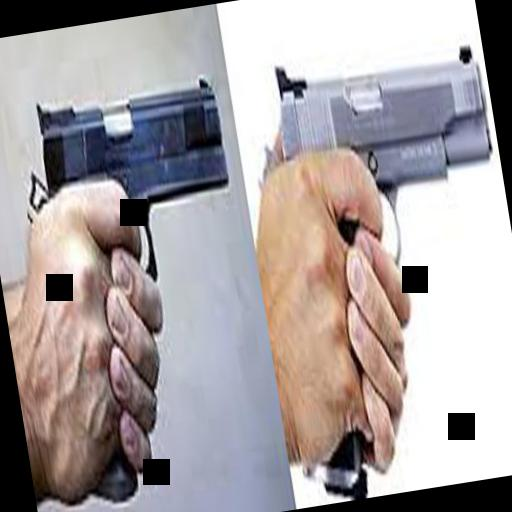Handgun: (255, 17, 512, 498), (10, 46, 273, 503)
